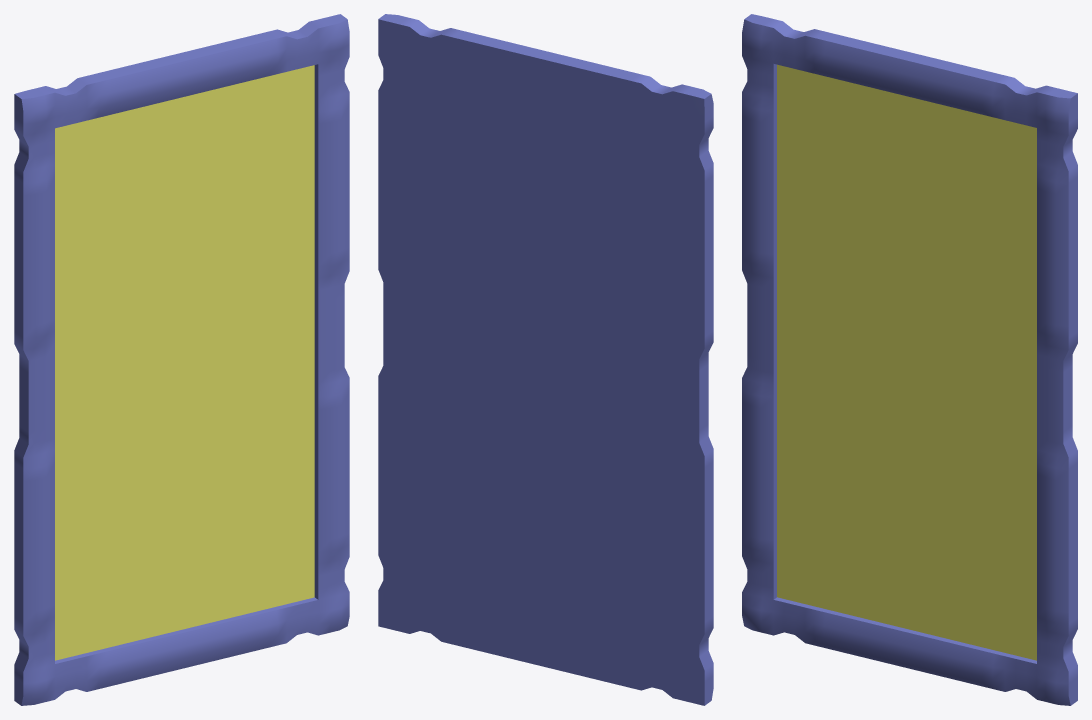
3 renders of one model, left to right at view 1: azimuth 30°, elevation 25°; view 2: azimuth 150°, elevation 25°; view 3: azimuth 330°, elevation 25°, orthographic.
Parts seen in each view (by area): view 1: Pictureframe back_Back_0, split_parent_1; view 2: split_parent_1; view 3: Pictureframe back_Back_0, split_parent_1.
Boxes of the visible parts, x1=… form: Pictureframe back_Back_0: x1=55, y1=65, x2=314, y2=660; split_parent_1: x1=14, y1=14, x2=349, y2=705; split_parent_1: x1=378, y1=14, x2=713, y2=705; Pictureframe back_Back_0: x1=777, y1=64, x2=1036, y2=660; split_parent_1: x1=742, y1=14, x2=1077, y2=705.
Size of the model in its own units: 0.5625 by 1 by 0.0339.
